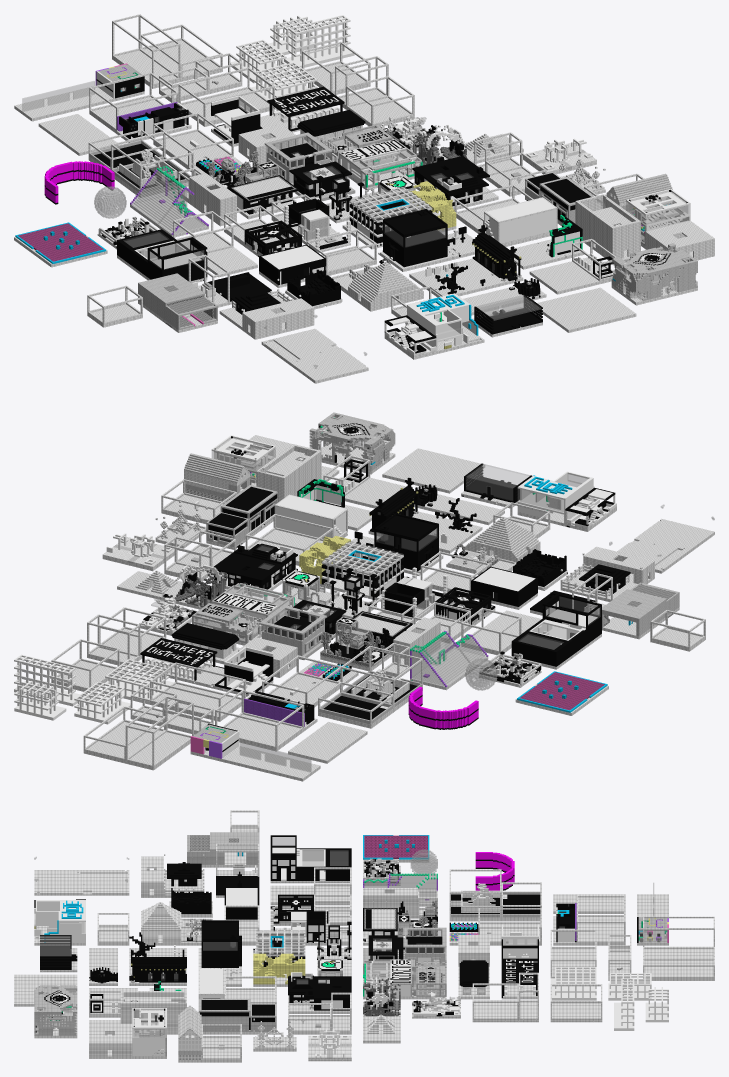
File: Makers-v1.glb
3 renders of one model, top to bottom at view 1: azimuth 30°, elevation 25°; view 2: azimuth 150°, elevation 25°; view 3: azimuth 270°, elevation 25°, orthographic. The views are drawn at different scales.
Visible parts, largest first — view 1: solid-voxels_35.010, solid-voxels_72.006, solid-voxels_89.003, solid-voxels_79.004, solid-voxels_77.004, solid-voxels_42.010, solid-voxels_96.002, solid-voxels_51.009, solid-voxels_52.009, solid-voxels_26.010, solid-voxels_3.011, solid-voxels_98.001 (+93 smaller); view 2: solid-voxels_35.010, solid-voxels_51.009, solid-voxels_72.006, solid-voxels_79.004, solid-voxels_98.001, solid-voxels_83.003, solid-voxels_52.009, solid-voxels_89.003, solid-voxels_50.009, solid-voxels_17.011, solid-voxels_88.003, solid-voxels_77.004 (+91 smaller); view 3: solid-voxels_35.010, solid-voxels_79.004, solid-voxels_72.006, solid-voxels_96.002, solid-voxels_83.003, solid-voxels_12.011, solid-voxels_89.003, solid-voxels_52.009, solid-voxels_59.009, solid-voxels_61.009, solid-voxels_17.011, solid-voxels_32.010 (+85 smaller).
Part boxes in pixels (x1=…): solid-voxels_35.010: x1=611, y1=243, x2=697, y2=305; solid-voxels_72.006: x1=378, y1=209, x2=450, y2=271; solid-voxels_89.003: x1=575, y1=194, x2=640, y2=259; solid-voxels_79.004: x1=407, y1=293, x2=484, y2=354; solid-voxels_77.004: x1=484, y1=197, x2=557, y2=246; solid-voxels_42.010: x1=339, y1=139, x2=422, y2=189; solid-voxels_96.002: x1=111, y1=131, x2=193, y2=197; solid-voxels_51.009: x1=342, y1=188, x2=432, y2=249; solid-voxels_52.009: x1=14, y1=222, x2=107, y2=267; solid-voxels_26.010: x1=348, y1=261, x2=423, y2=311; solid-voxels_3.011: x1=284, y1=15, x2=354, y2=68; solid-voxels_98.001: x1=260, y1=86, x2=344, y2=132; solid-voxels_35.010: x1=309, y1=412, x2=395, y2=474; solid-voxels_51.009: x1=321, y1=542, x2=412, y2=601; solid-voxels_72.006: x1=374, y1=513, x2=443, y2=575; solid-voxels_79.004: x1=517, y1=471, x2=594, y2=526; solid-voxels_98.001: x1=140, y1=638, x2=224, y2=691; solid-voxels_83.003: x1=511, y1=618, x2=587, y2=669; solid-voxels_52.009: x1=515, y1=671, x2=608, y2=715; solid-voxels_89.003: x1=256, y1=444, x2=321, y2=502; solid-voxels_50.009: x1=320, y1=617, x2=392, y2=671; solid-voxels_17.011: x1=215, y1=690, x2=304, y2=751; solid-voxels_88.003: x1=602, y1=589, x2=666, y2=639; solid-voxels_77.004: x1=274, y1=494, x2=347, y2=538; solid-voxels_35.010: x1=34, y1=985, x2=77, y2=1038; solid-voxels_79.004: x1=34, y1=900, x2=85, y2=945; solid-voxels_72.006: x1=198, y1=920, x2=241, y2=968; solid-voxels_96.002: x1=449, y1=869, x2=501, y2=921; solid-voxels_83.003: x1=296, y1=848, x2=351, y2=883; solid-voxels_12.011: x1=643, y1=947, x2=714, y2=980; solid-voxels_89.003: x1=120, y1=991, x2=186, y2=1034; solid-voxels_52.009: x1=363, y1=835, x2=429, y2=862; solid-voxels_59.009: x1=198, y1=999, x2=250, y2=1034; solid-voxels_61.009: x1=132, y1=1008, x2=166, y2=1058; solid-voxels_17.011: x1=576, y1=895, x2=625, y2=945; solid-voxels_32.010: x1=129, y1=949, x2=186, y2=985.
Size of the model in its own units: 192 by 13 by 243.
2 materials, 1 textured.
